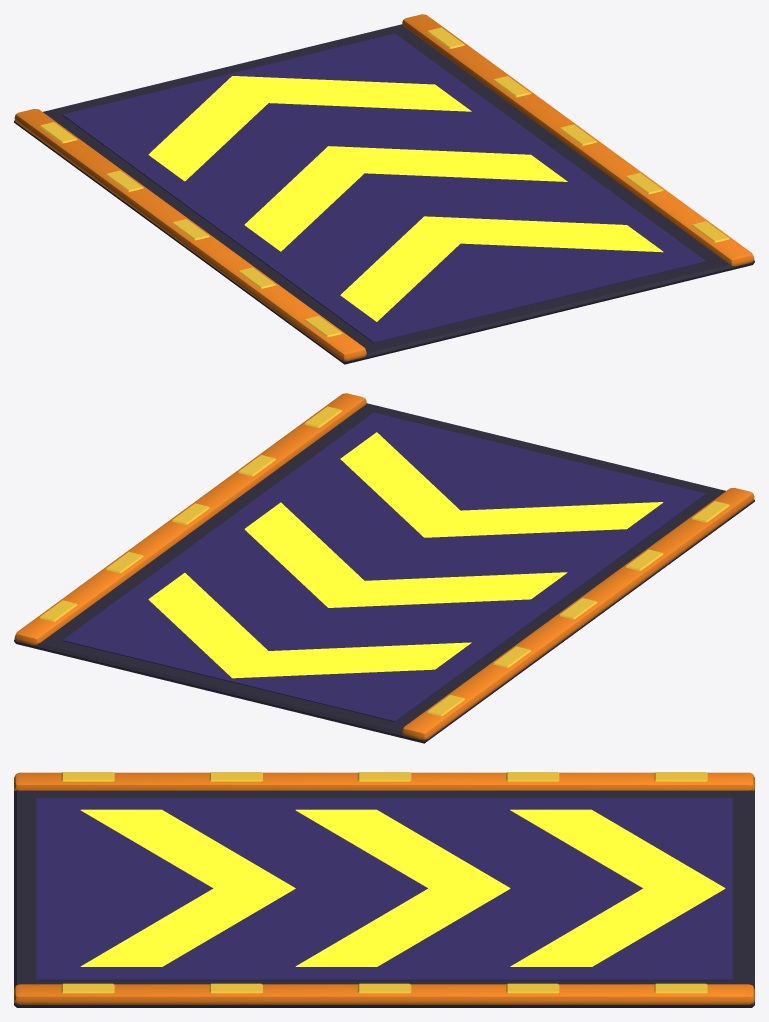
The model's file is boost_pad_v2.glb.
3 views of the same model, one above another, from view 1: azimuth 30°, elevation 25°; view 2: azimuth 150°, elevation 25°; view 3: azimuth 270°, elevation 25° (orthographic). The views are drawn at different scales.
Parts seen in each view (by area): view 1: boost_pad_v2; view 2: boost_pad_v2; view 3: boost_pad_v2.
Part boxes in pixels (x1=…): boost_pad_v2: x1=14, y1=14, x2=754, y2=364; boost_pad_v2: x1=14, y1=393, x2=754, y2=743; boost_pad_v2: x1=14, y1=772, x2=754, y2=1007.
Size of the model in its own units: 3.6 by 0.11 by 5.
